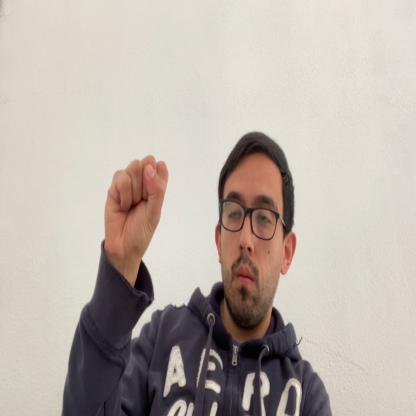S: (104, 154, 169, 259)
